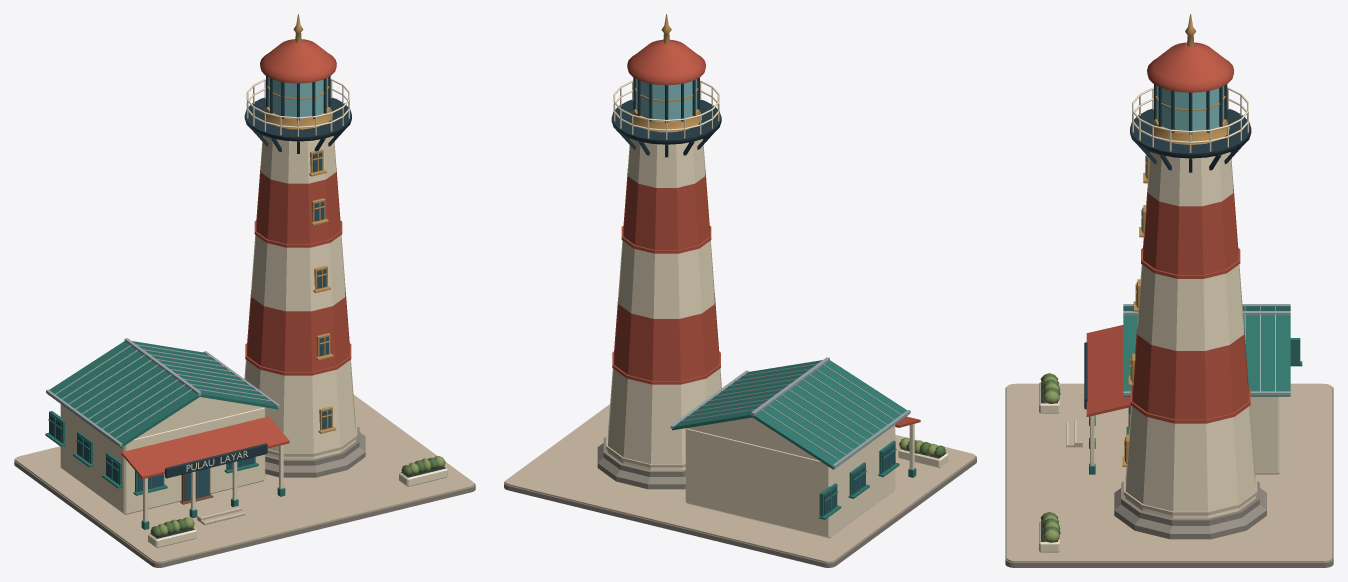
3 views of the same model, side by side, from view 1: azimuth 30°, elevation 25°; view 2: azimuth 150°, elevation 25°; view 3: azimuth 270°, elevation 25° (orthographic). The views are drawn at different scales.
Visible parts, largest first — view 1: Keeper Station, Banded Light Tower, Island Apron, Optic and Gallery; view 2: Keeper Station, Banded Light Tower, Island Apron, Optic and Gallery; view 3: Banded Light Tower, Island Apron, Keeper Station, Optic and Gallery.
Part boxes in pixels (x1,y1,x2,y2): Keeper Station: (45, 338, 447, 547); Banded Light Tower: (244, 135, 365, 477); Island Apron: (14, 395, 475, 567); Optic and Gallery: (244, 14, 351, 153); Keeper Station: (670, 357, 948, 538); Banded Light Tower: (597, 139, 721, 489); Island Apron: (504, 404, 976, 567); Optic and Gallery: (611, 14, 721, 157); Banded Light Tower: (1114, 152, 1266, 539); Island Apron: (1005, 383, 1333, 567); Keeper Station: (1039, 304, 1302, 552); Optic and Gallery: (1130, 14, 1251, 172).
Bounding box in the file's own units: 18 × 23.49 × 14.
